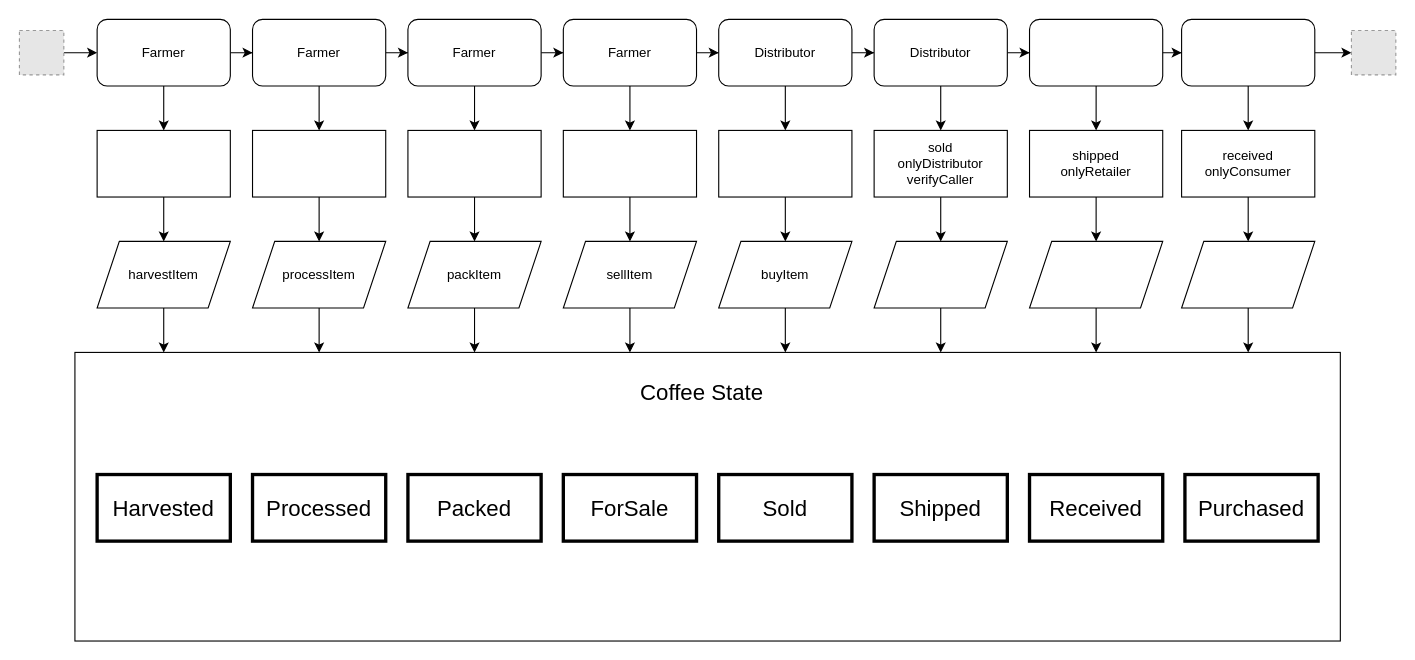
Some shapes in this 1415 by 660 pixel diagram are drawn without their labels. Grey dashed boxes stand in for pictures. Each missing label, with the box of its shape:
Consumer: (1180, 18, 1315, 86)
forSale paidEnough checkValue onlyDistributor: (718, 129, 852, 197)
harvested onlyFarmer verifyCaller: (251, 129, 386, 197)
onlyFarmer: (96, 129, 230, 197)
packed onlyFarmer verifyCaller: (562, 129, 697, 197)
processed onlyFarmer verifyCaller: (407, 129, 541, 197)
purchaseItem: (1180, 240, 1315, 308)
receiveItem: (1028, 240, 1163, 308)
Retailer: (1028, 18, 1163, 86)
shipItem: (873, 240, 1007, 308)
